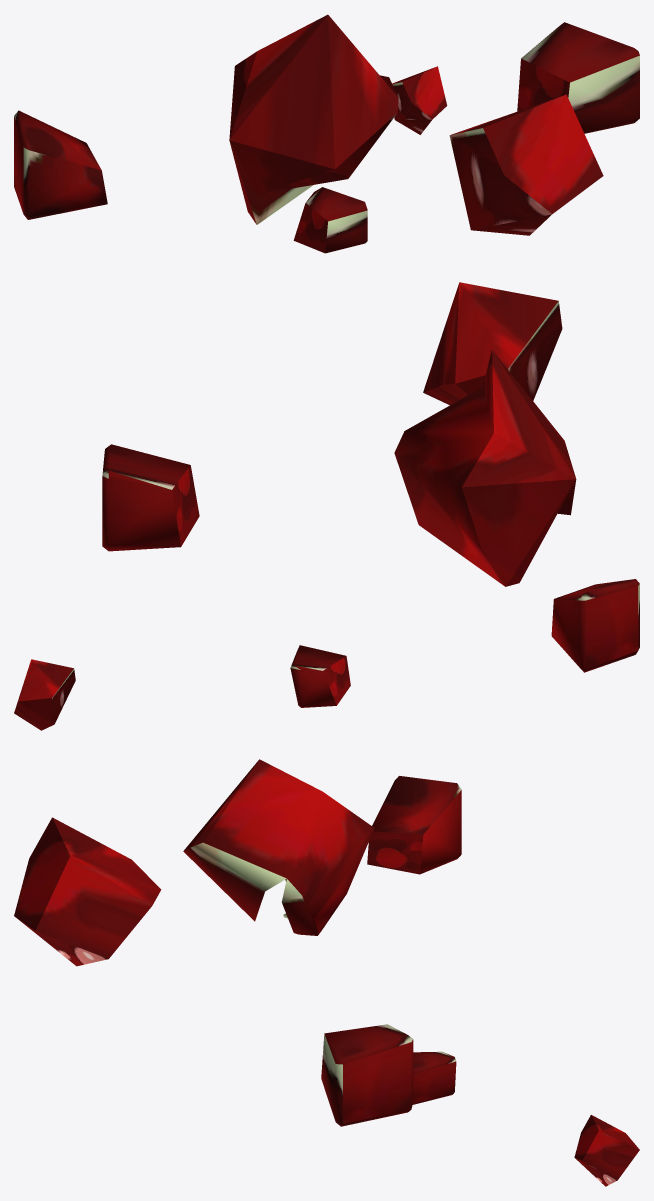
Rendered from Zombie_Weapon_Broken_569cbe12__Zombie_Broken_Green_486d7899_c1f257.obj.
3 renders of one model, top to bottom at view 1: azimuth 30°, elevation 25°; view 2: azimuth 150°, elevation 25°; view 3: azimuth 270°, elevation 25°, orthographic. The views are drawn at different scales.
Bounding box in the file's own units: 1.75 × 0.9334 × 1.76.
Materials: 1 (1 with a texture image).
